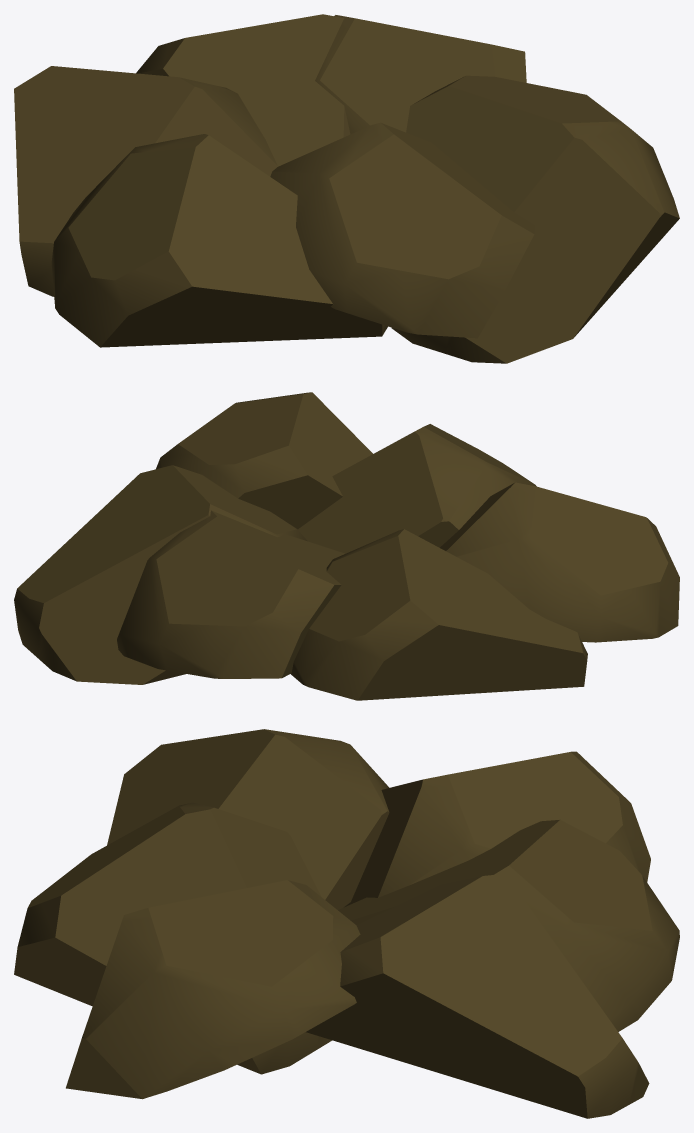
The model's file is planting_spot.gltf.
The picture shows the model from 3 angles, top to bottom: view 1: azimuth 30°, elevation 25°; view 2: azimuth 150°, elevation 25°; view 3: azimuth 270°, elevation 25°; orthographic projection. The views are drawn at different scales.
Parts seen in each view (by area): view 1: SmallDirtPile42, SmallDirtPile62, SmallDirtPile52, SmallDirtPile32, SmallDirtPile23, SmallDirtPile2; view 2: SmallDirtPile32, SmallDirtPile23, SmallDirtPile42, SmallDirtPile2, SmallDirtPile62, SmallDirtPile52; view 3: SmallDirtPile2, SmallDirtPile62, SmallDirtPile52, SmallDirtPile42, SmallDirtPile23, SmallDirtPile32.
Boxes of the visible parts, bbox=[...] form: SmallDirtPile42: bbox=[51, 134, 387, 347]; SmallDirtPile62: bbox=[391, 75, 679, 363]; SmallDirtPile52: bbox=[270, 122, 534, 338]; SmallDirtPile32: bbox=[14, 66, 277, 296]; SmallDirtPile23: bbox=[136, 14, 350, 176]; SmallDirtPile2: bbox=[315, 15, 526, 134]; SmallDirtPile32: bbox=[291, 529, 587, 700]; SmallDirtPile23: bbox=[117, 510, 344, 678]; SmallDirtPile42: bbox=[440, 482, 679, 642]; SmallDirtPile2: bbox=[14, 465, 307, 684]; SmallDirtPile62: bbox=[156, 392, 372, 529]; SmallDirtPile52: bbox=[298, 424, 536, 553]; SmallDirtPile2: bbox=[306, 873, 649, 1118]; SmallDirtPile62: bbox=[66, 880, 360, 1099]; SmallDirtPile52: bbox=[14, 802, 331, 1074]; SmallDirtPile42: bbox=[107, 729, 389, 909]; SmallDirtPile23: bbox=[338, 820, 679, 1031]; SmallDirtPile32: bbox=[344, 751, 650, 907].
Size of the model in its own units: 1.85 by 0.6479 by 1.73.
